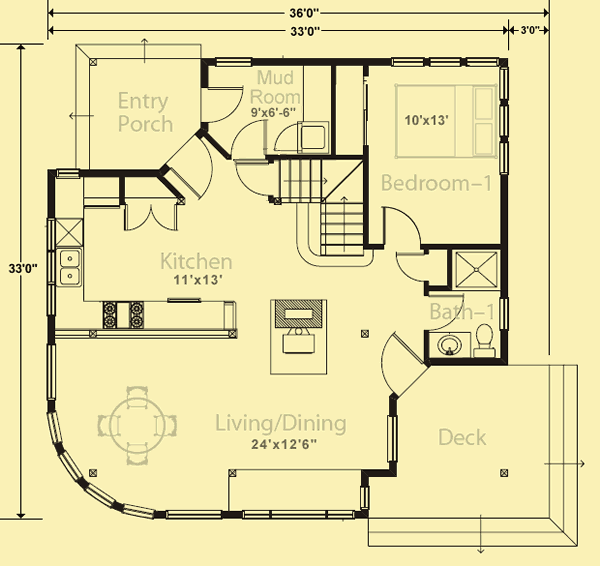bed: (393, 83, 497, 162)
door: (379, 330, 426, 399), (168, 135, 214, 201), (379, 202, 426, 252), (122, 200, 179, 235), (200, 85, 244, 124), (228, 118, 268, 159), (425, 293, 468, 330), (397, 251, 430, 284), (272, 121, 302, 155)
large_sink: (472, 323, 498, 360)
round_table: (92, 384, 180, 471)
small_sink: (427, 332, 471, 359)
stairs: (273, 157, 366, 268)
twin_sink: (55, 248, 85, 293)
window: (388, 53, 499, 71), (239, 507, 354, 522), (497, 65, 511, 179), (44, 218, 58, 316), (385, 411, 401, 465), (45, 343, 57, 402), (215, 56, 255, 73), (163, 510, 223, 521), (46, 409, 65, 443), (53, 167, 81, 180)
